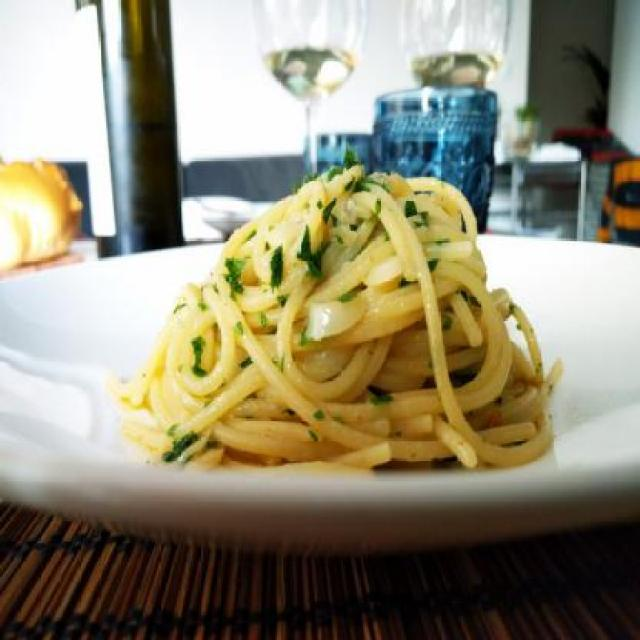Oil pasta: (150, 93, 564, 530)
